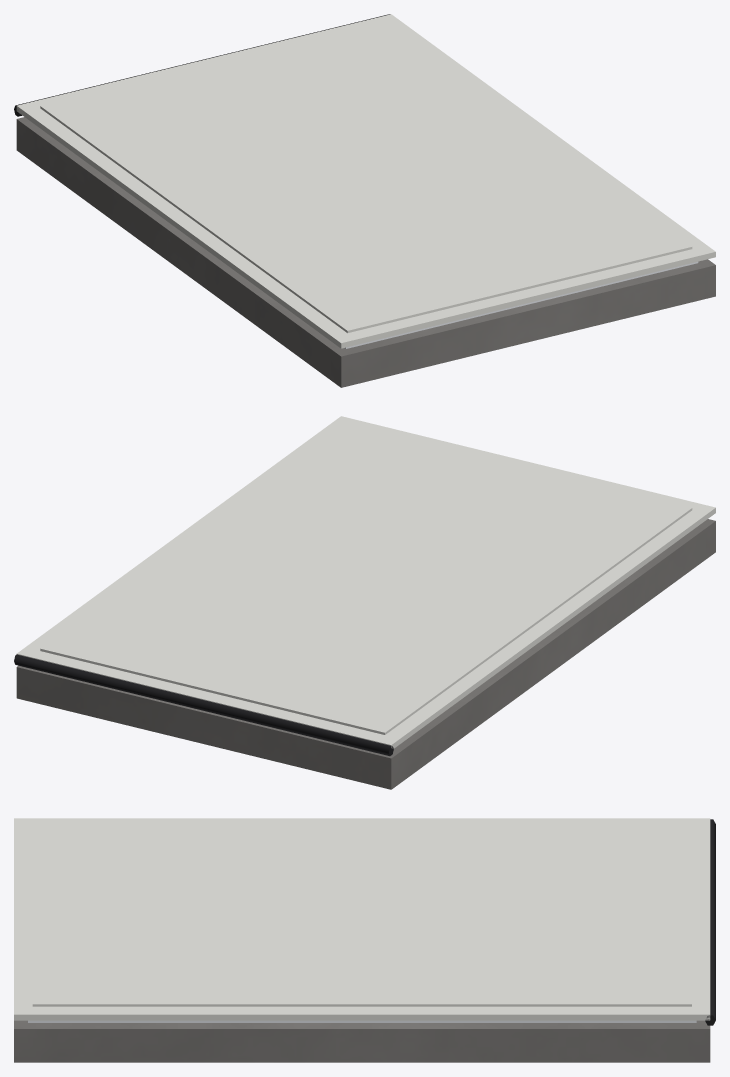
The model's file is rover27_rover_radiator_m.glb.
3 views of the same model, one above another, from view 1: azimuth 30°, elevation 25°; view 2: azimuth 150°, elevation 25°; view 3: azimuth 270°, elevation 25° (orthographic). The views are drawn at different scales.
Parts seen in each view (by area): view 1: cover, tray, radiator_panel; view 2: cover, tray, hinge; view 3: cover, tray, radiator_panel, hinge.
Boxes of the visible parts, x1,y1,x2,y2 form: cover: [16, 14, 715, 348]; tray: [16, 117, 715, 387]; radiator_panel: [345, 261, 698, 348]; cover: [16, 416, 715, 748]; tray: [16, 519, 715, 789]; hinge: [14, 654, 393, 756]; cover: [14, 818, 710, 1020]; tray: [14, 1020, 710, 1062]; radiator_panel: [28, 1020, 696, 1022]; hinge: [705, 819, 715, 1025].
Size of the model in its own units: 1 by 0.12 by 1.51.
5 materials, 2 textured.
